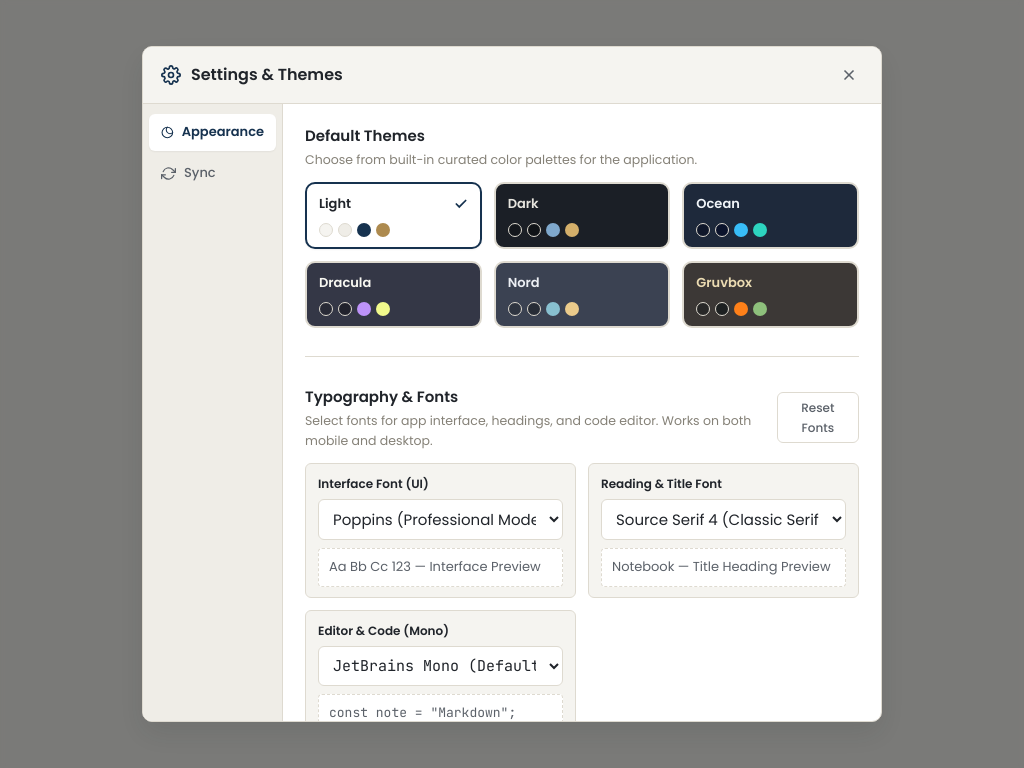
it: DeletionActivity inside SettingsModal › renders empty state when there are no deletions
Click the button "Sync" at (212, 173), box 149,155 -> 276,192
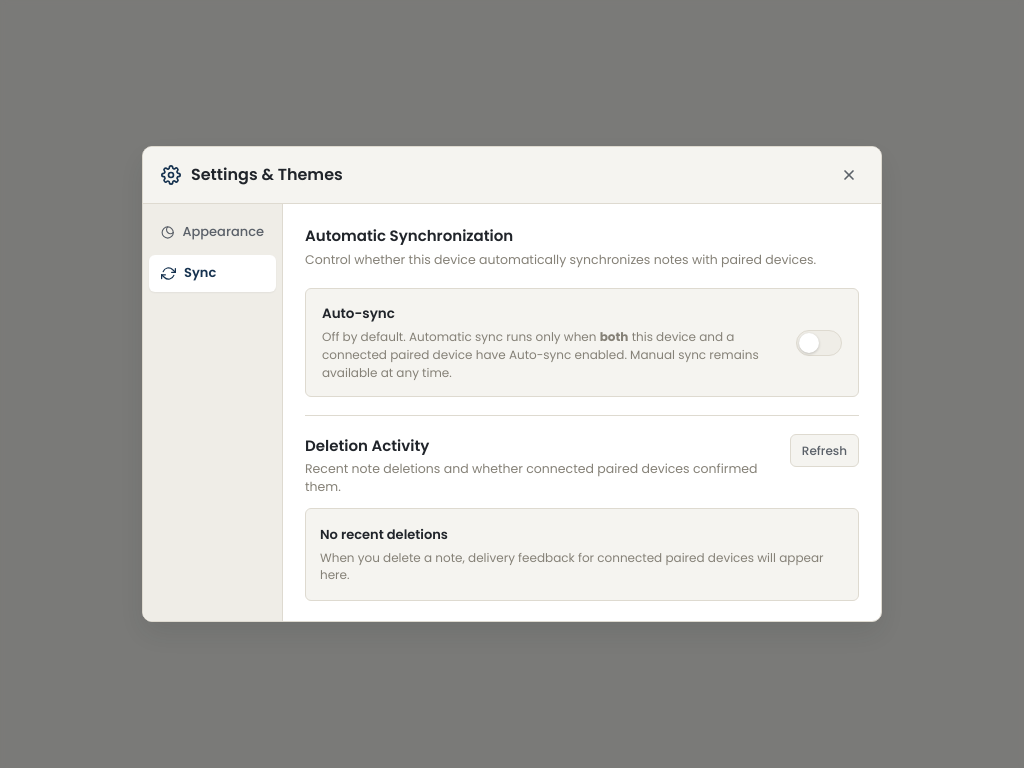
Expected: the text "Deletion Activity" is shown, 305,435 -> 429,456
Expected: the text "No recent deletions" is shown, 320,525 -> 448,544
